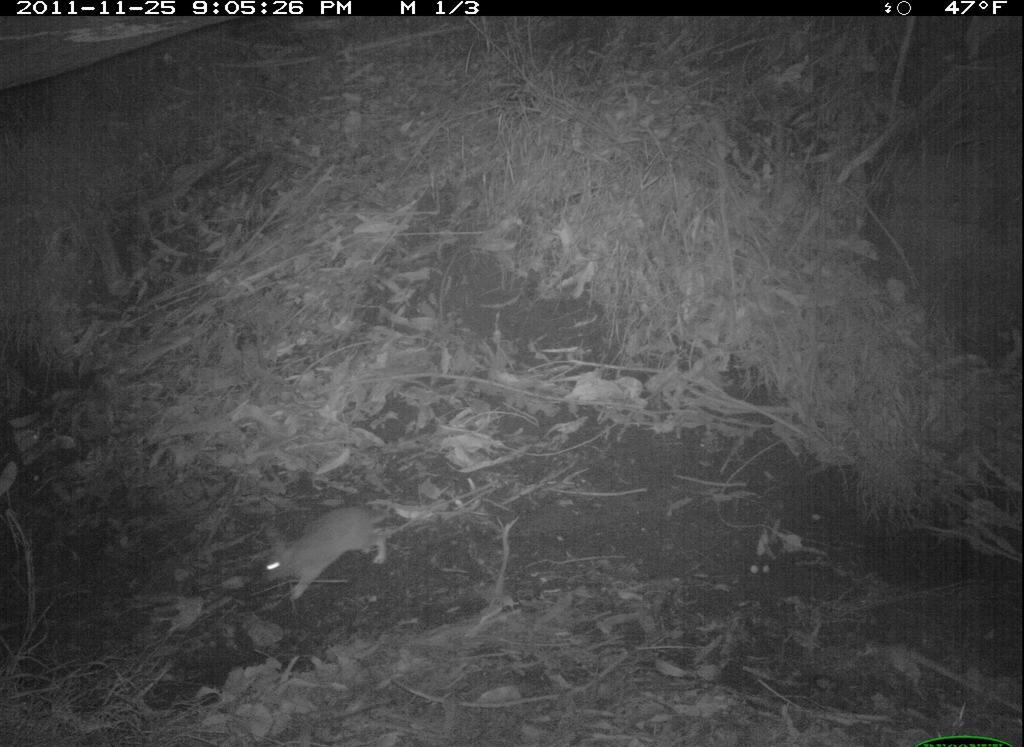rabbit: (245, 498, 406, 614)
